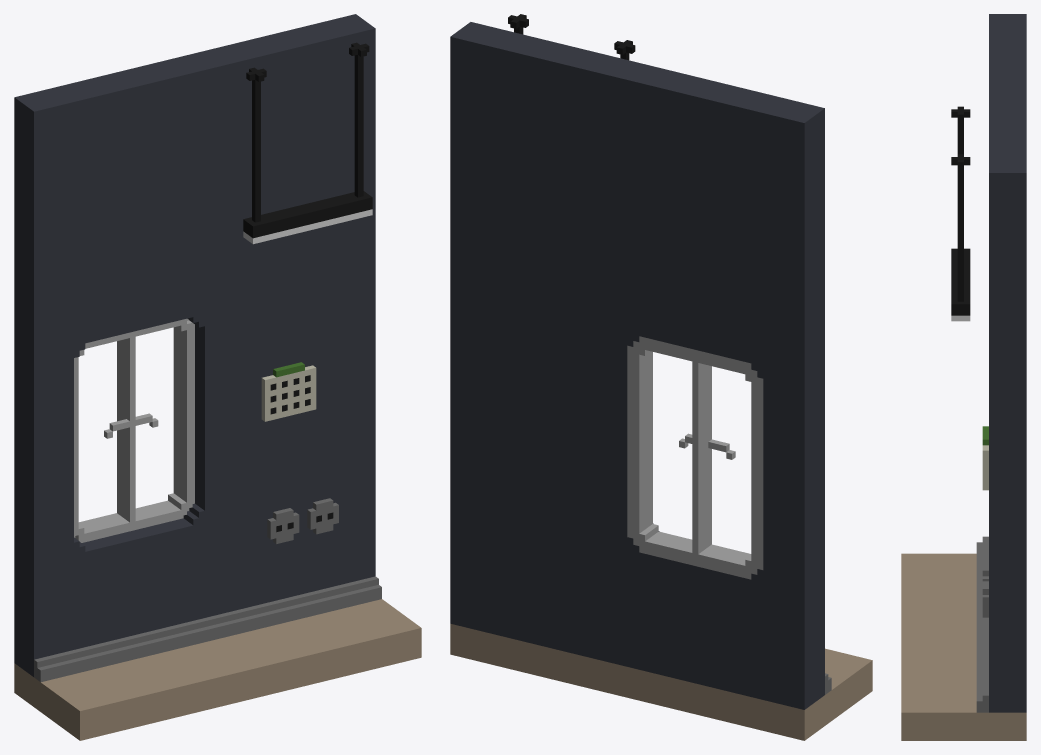
The model's file is wholeVariant3.obj.
The picture shows the model from 3 angles, left to right: view 1: azimuth 30°, elevation 25°; view 2: azimuth 150°, elevation 25°; view 3: azimuth 270°, elevation 25°; orthographic projection. The views are drawn at different scales.
Size of the model in its own units: 6 by 10 by 2.
Materials: 1 (1 with a texture image).
